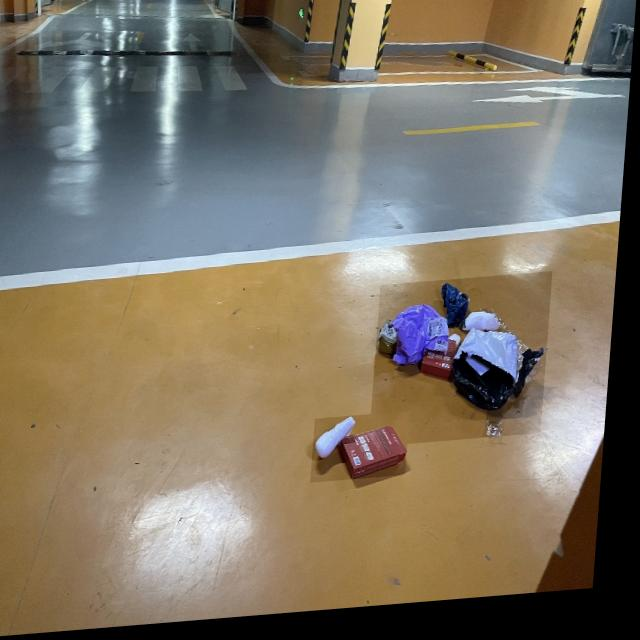garbage: (376, 281, 557, 454), (318, 419, 417, 489)
